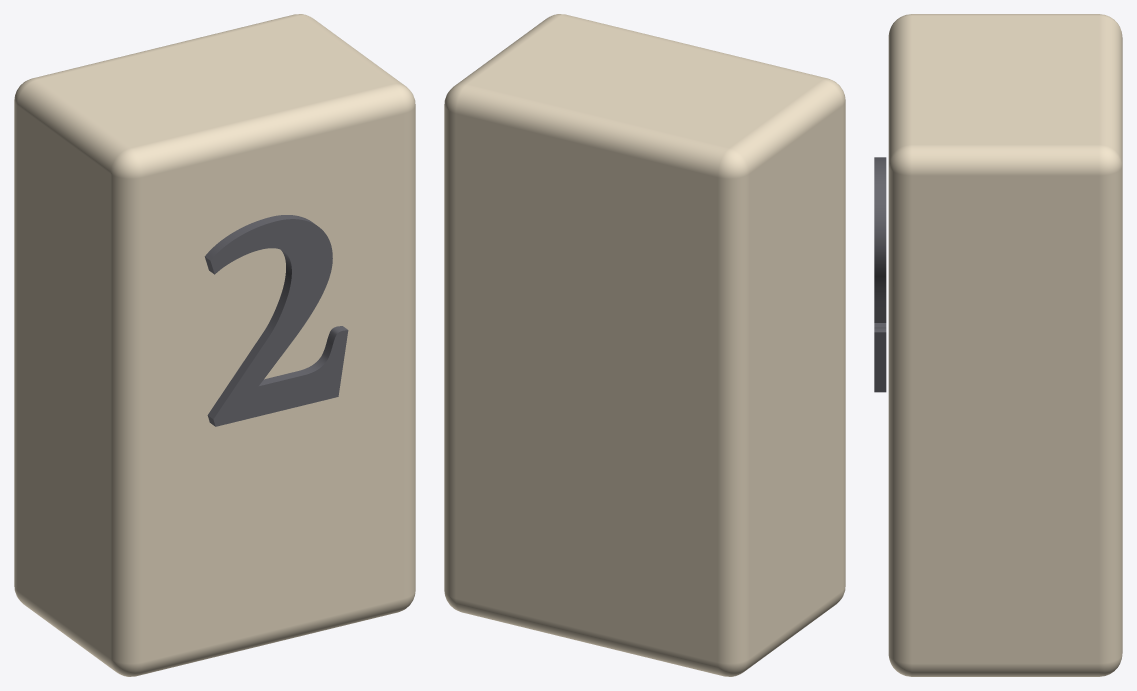
Rendered from pin_2.gltf.
3 renders of one model, left to right at view 1: azimuth 30°, elevation 25°; view 2: azimuth 150°, elevation 25°; view 3: azimuth 270°, elevation 25°, orthographic.
Parts seen in each view (by area): view 1: White, Black; view 2: White; view 3: White, Black.
Part boxes in pixels (x1=…): White: x1=14, y1=14, x2=415, y2=676; Black: x1=204, y1=215, x2=348, y2=426; White: x1=444, y1=14, x2=845, y2=676; White: x1=888, y1=14, x2=1122, y2=676; Black: x1=874, y1=157, x2=886, y2=392.
Bounding box in the file's own units: 1.5 × 2.5 × 1.06.
